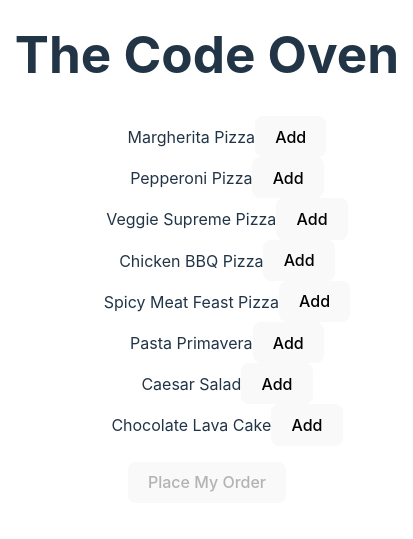
it: The Application › adds menu item to shopping cart
The image size is (413, 539).
What coordinates should you click on to do the following:
click the button "Add" next to "Margherita Pizza"
I would click on:
 (291, 137)
Its box is [255, 116, 326, 157].
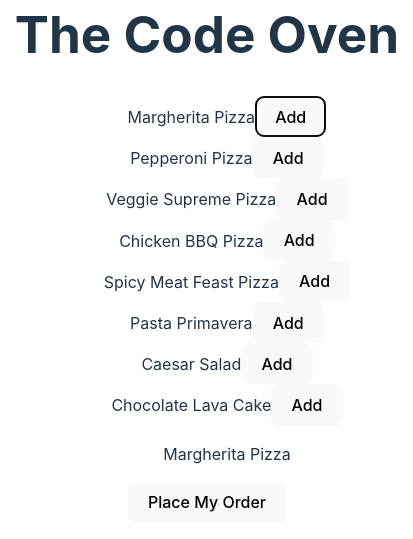
Check: the list item "Margherita Pizza" is shown, box [163, 444, 291, 464]
Check: the button "Place My Order" is enabled, box [128, 482, 286, 523]
